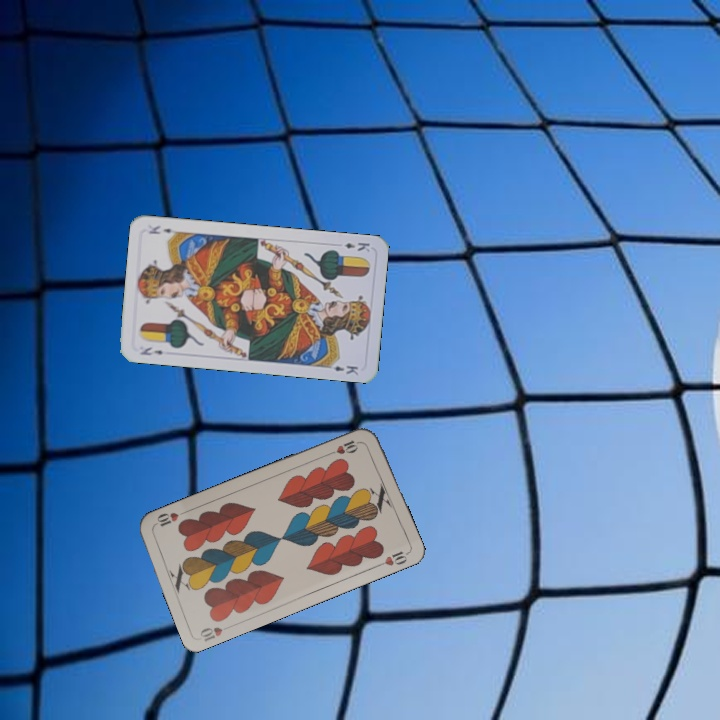EK: (340, 238, 372, 254), (136, 343, 165, 358)
H10: (325, 436, 365, 458), (196, 623, 225, 644)
